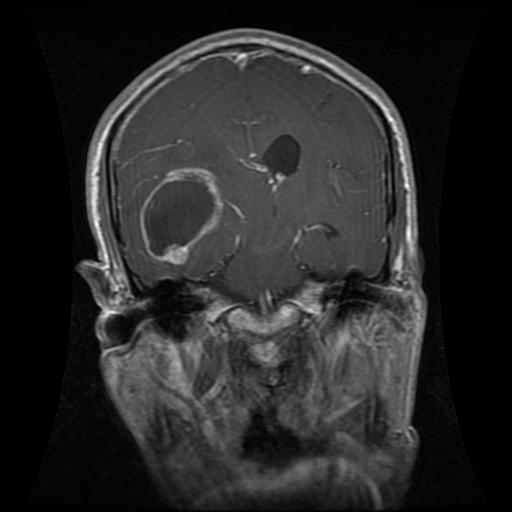Gliomia_tumour: (139, 166, 223, 264)
